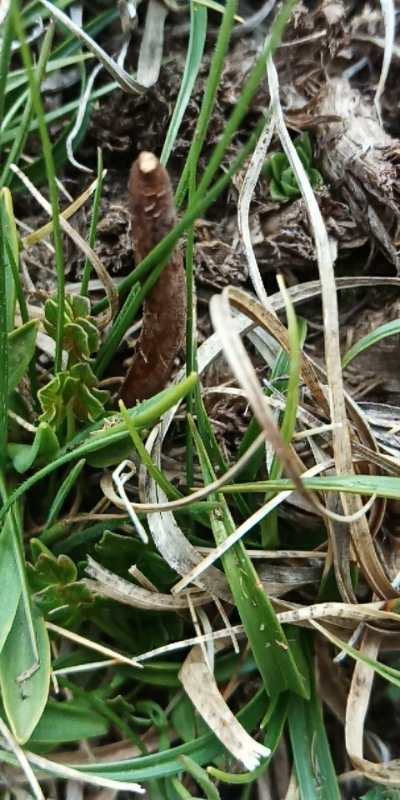Chongcao: (124, 152, 189, 414)
